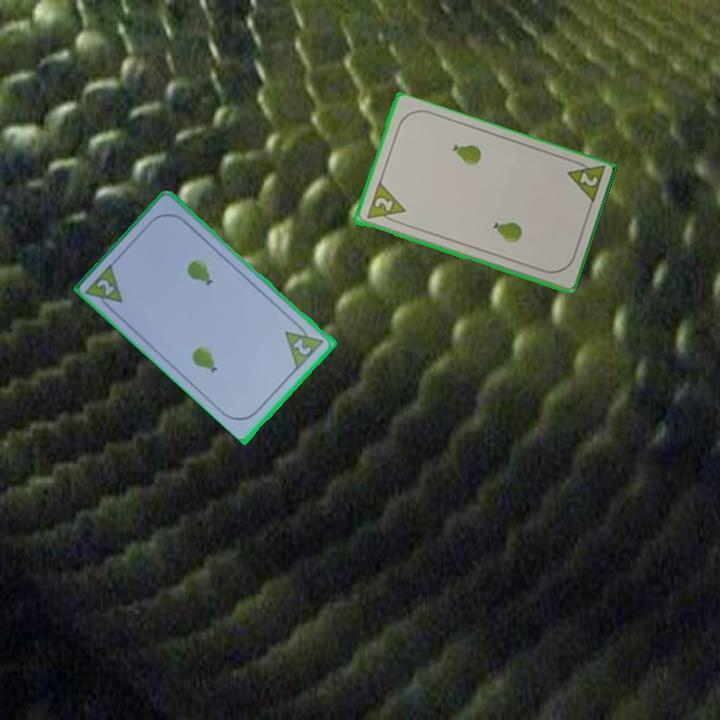2p: (281, 318, 328, 371), (563, 156, 608, 208), (363, 180, 408, 228), (93, 275, 118, 299)
